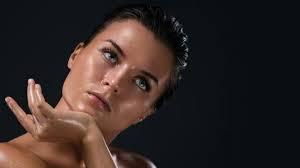Oily-Skin: (130, 40, 159, 64), (120, 97, 141, 122), (77, 56, 95, 85)
